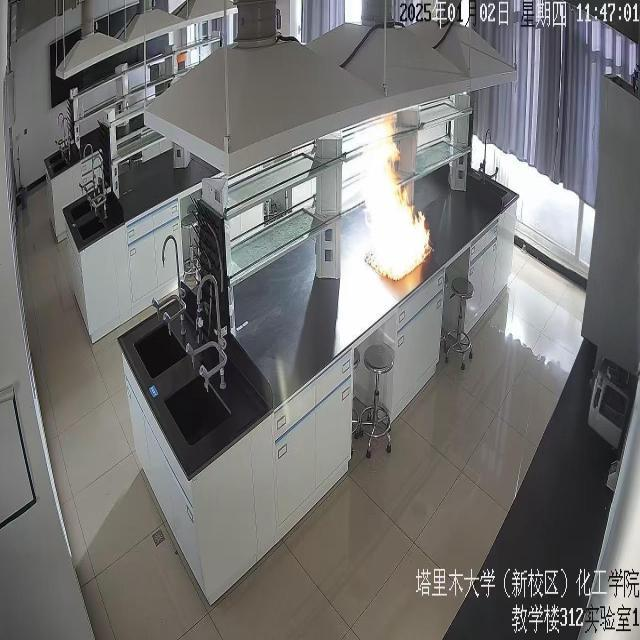smoke: (361, 106, 433, 281)
